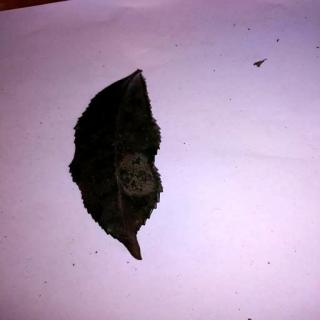Anthracnose: (71, 69, 165, 261)
